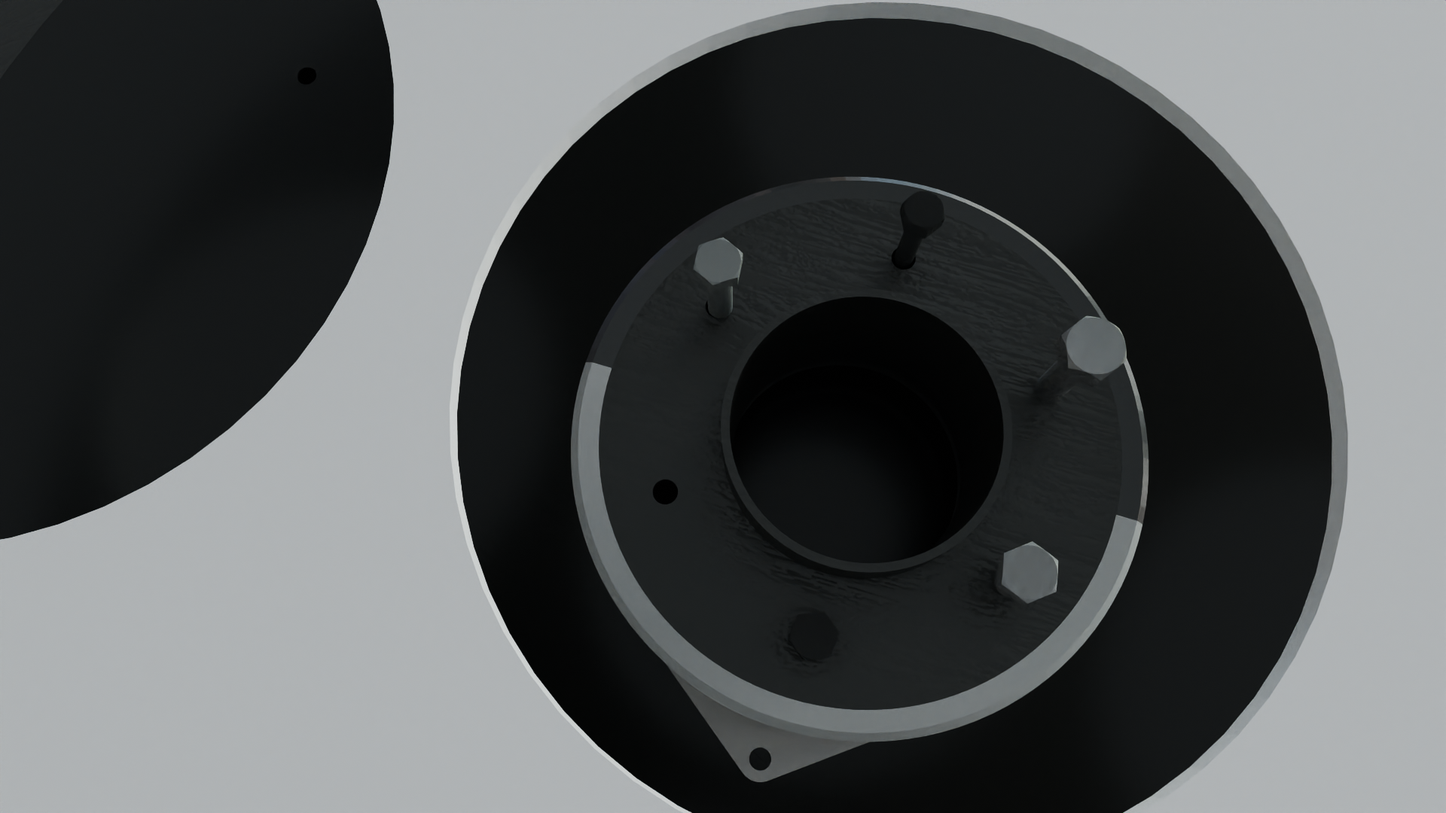bolt: (1061, 316, 1127, 381), (1002, 541, 1058, 604), (789, 611, 840, 660), (694, 237, 743, 285), (902, 190, 944, 232)
